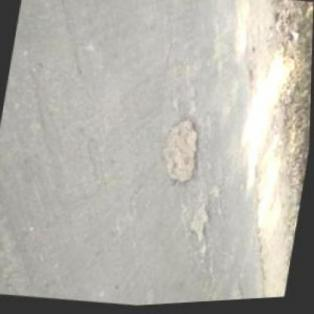Hueco: (156, 115, 208, 191), (186, 203, 214, 249)
